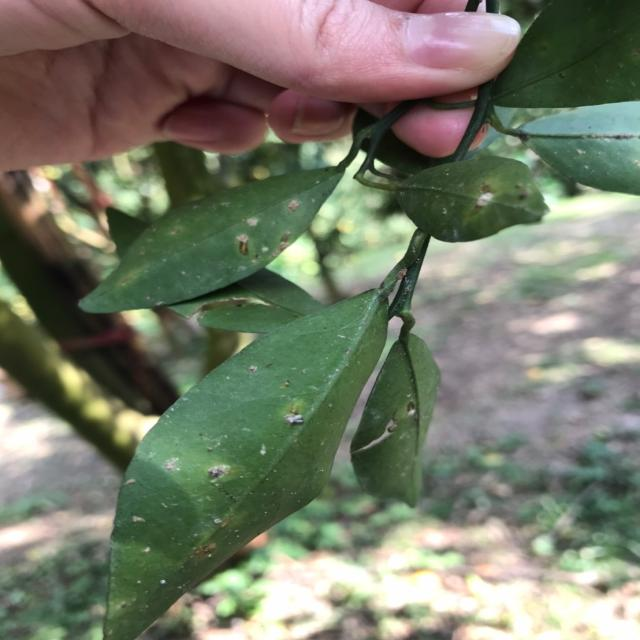canker: (110, 342, 347, 620), (104, 176, 337, 301), (411, 153, 536, 243), (356, 370, 442, 479), (553, 116, 640, 179)
